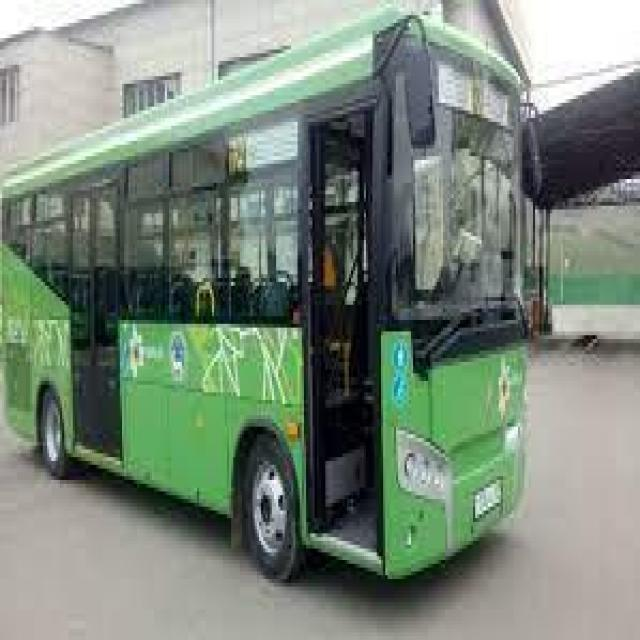bus: (3, 1, 547, 584)
